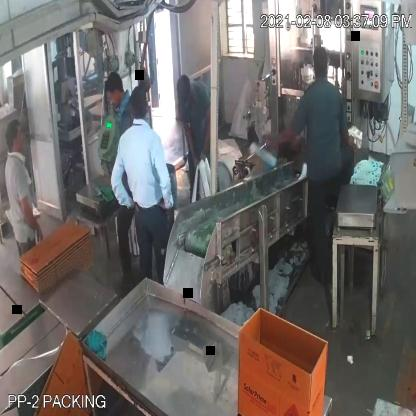no_glove: (114, 145, 139, 220), (157, 140, 180, 218), (22, 186, 48, 250), (261, 121, 305, 147), (182, 117, 200, 176), (201, 102, 213, 170)
